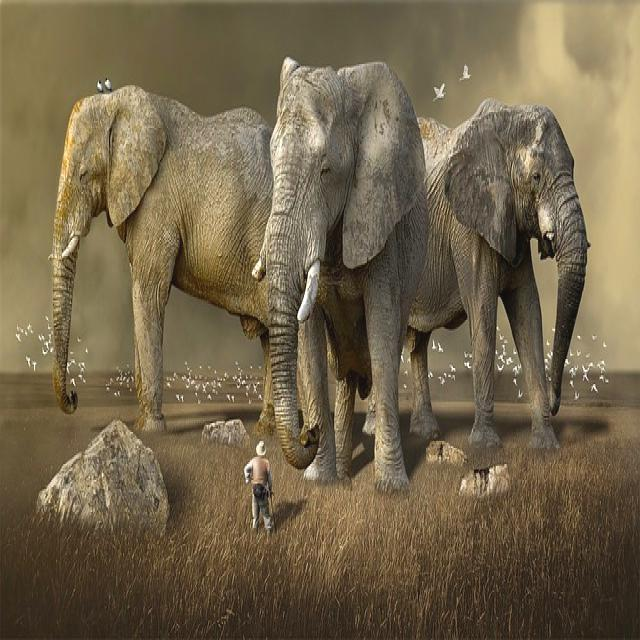FIL: (47, 87, 273, 431), (254, 41, 418, 493), (402, 95, 593, 452)
